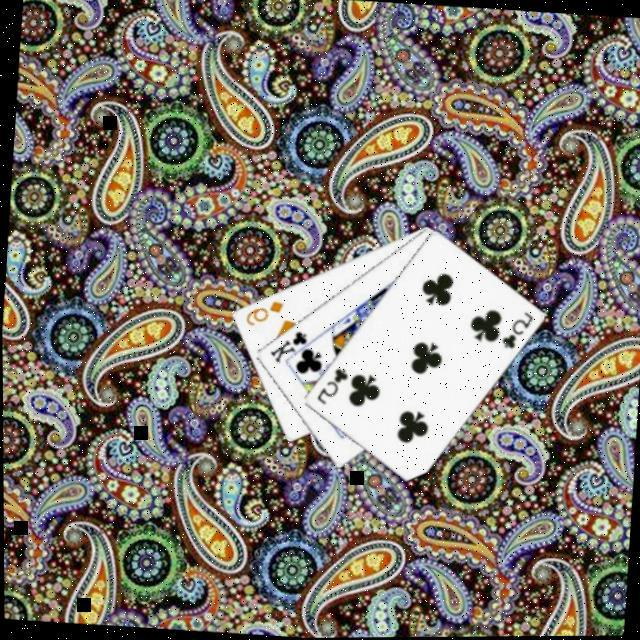5C: (309, 363, 348, 409), (494, 308, 533, 354)
6D: (238, 296, 283, 331)
KC: (262, 327, 315, 370)
